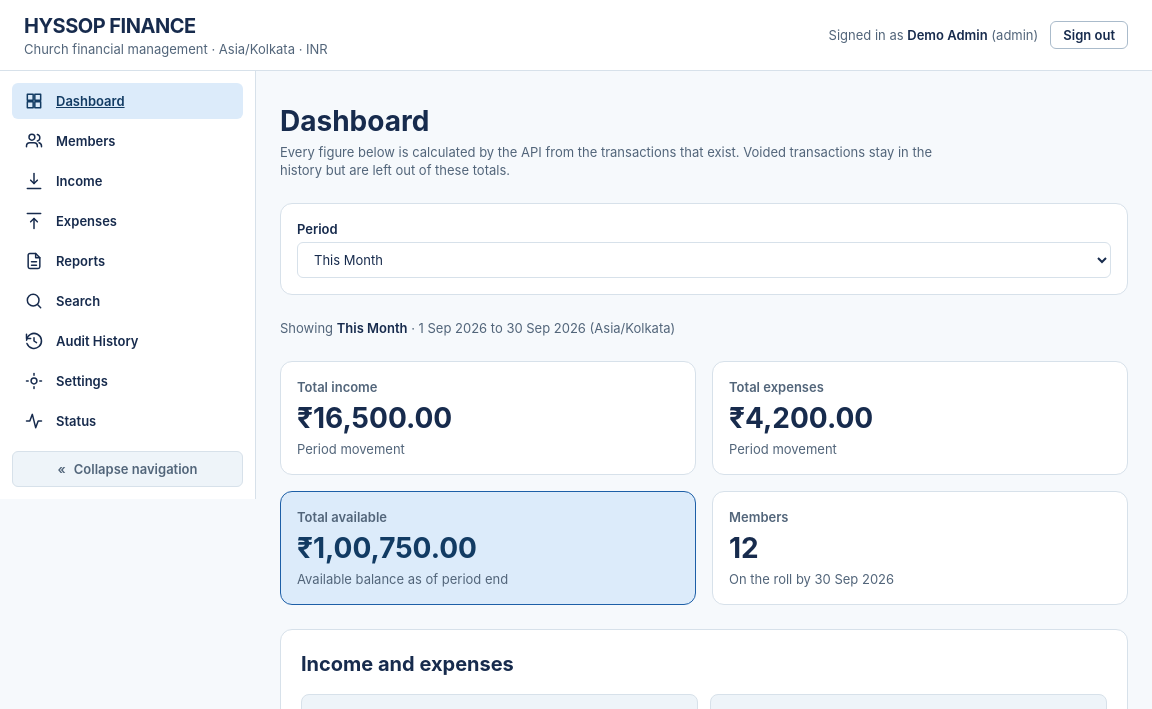
Test: session lifecycle › keeps the Admin signed in and says so when sign-out fails
The width and height of the screenshot is (1152, 709).
expect the heading "Dashboard" is shown: met, box x1=280 y1=104 x2=429 y2=138
Click the button "Sign out".
click(1089, 35)  # box x1=1050 y1=21 x2=1128 y2=49
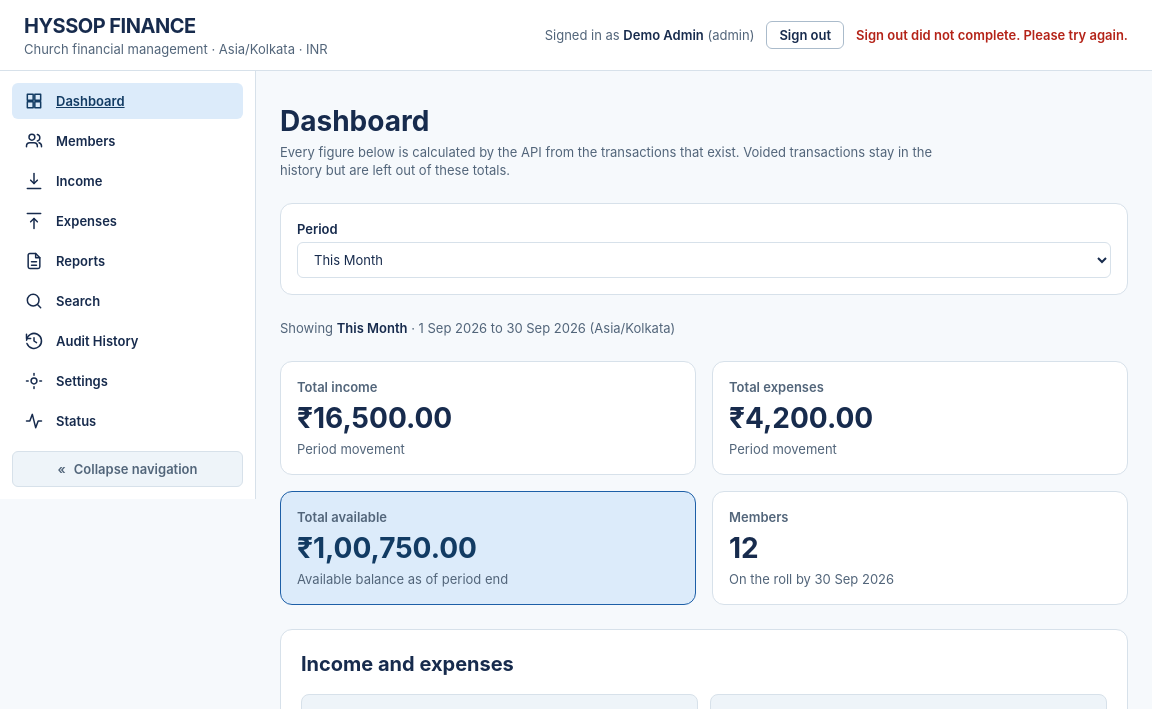
expect the heading "Dashboard" is shown: met, box x1=280 y1=104 x2=429 y2=138
expect the message reads "Sign out did not complete. Please try again.": met, box x1=856 y1=27 x2=1128 y2=43
